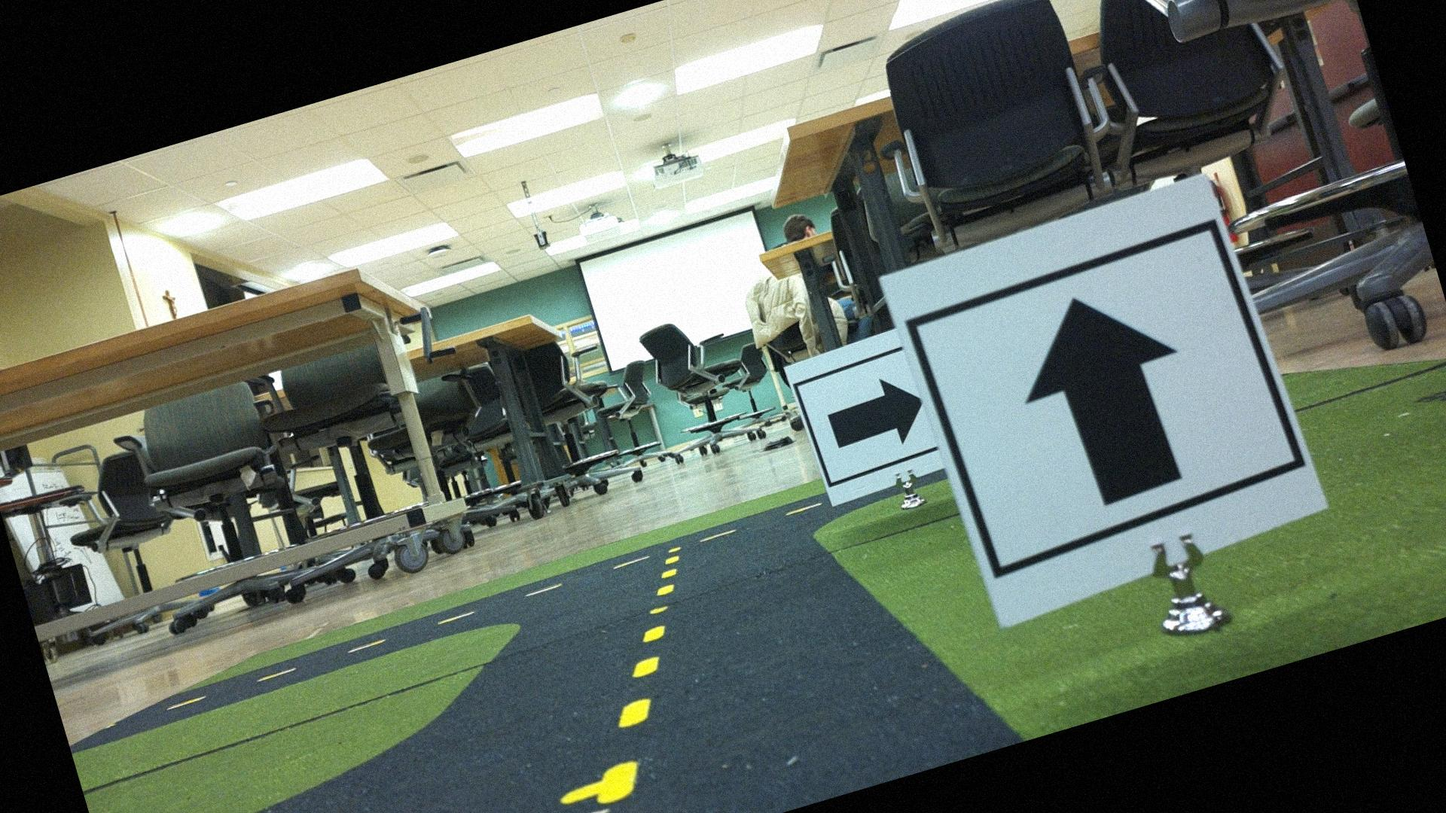gostraight: (897, 184, 1304, 619)
turnleft: (797, 346, 944, 499)
yellowline: (540, 554, 737, 805)
